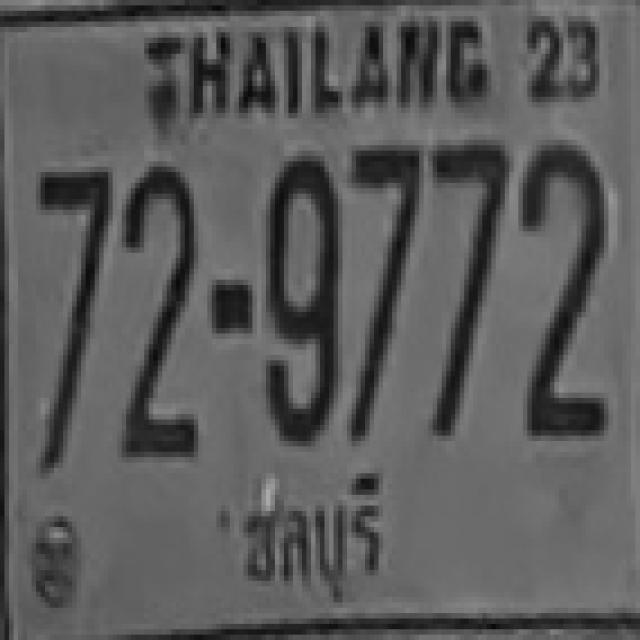2: (518, 137, 604, 369), (523, 204, 604, 430), (122, 159, 194, 395), (117, 236, 194, 452)
7: (430, 137, 502, 320), (349, 140, 422, 317), (36, 167, 108, 344)
9: (261, 167, 338, 441), (261, 194, 338, 441)
Chonburi: (220, 470, 399, 610)
